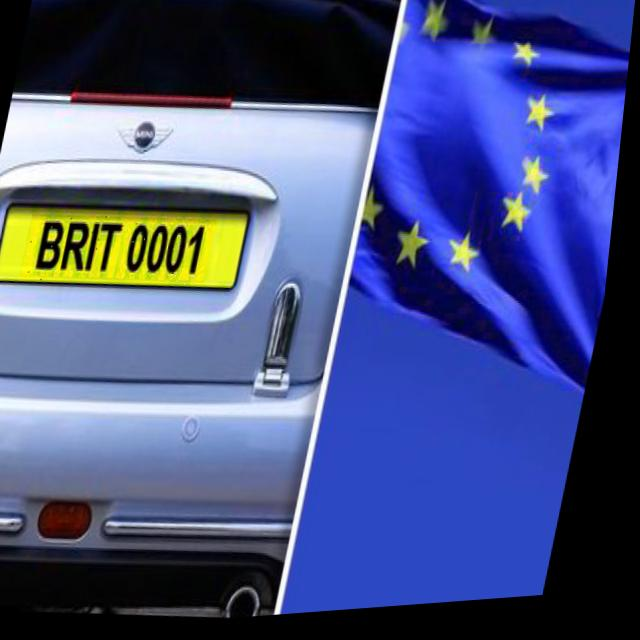license_plate: (23, 204, 224, 299)
